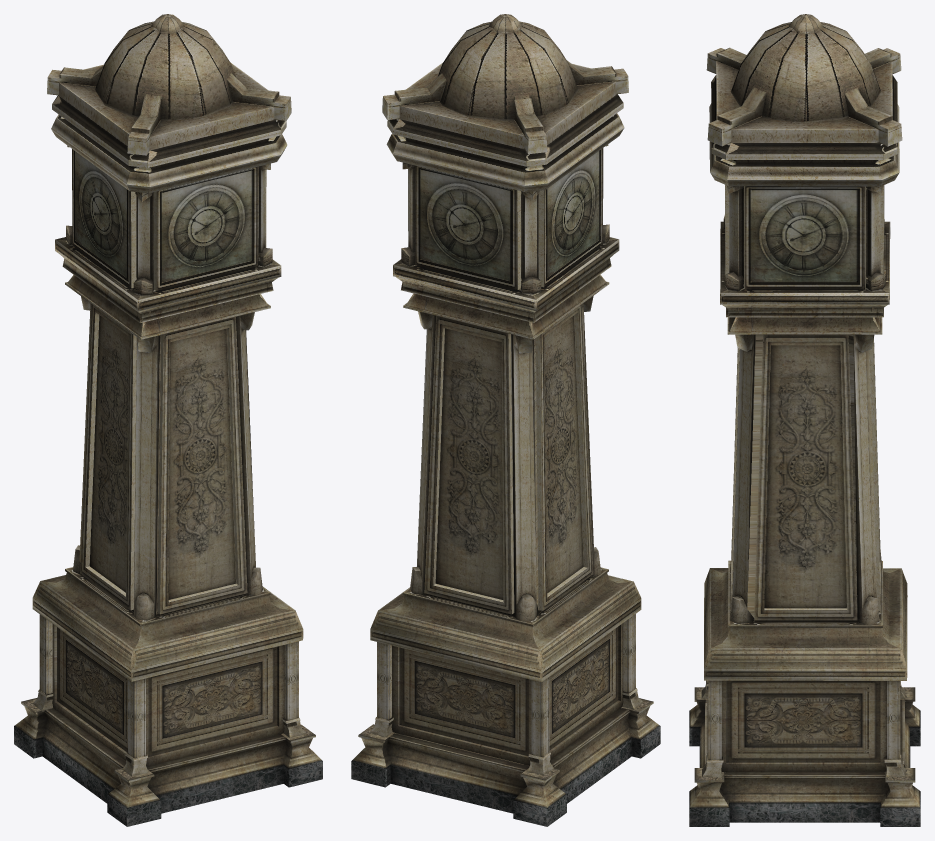
Rendered from Prop_Monument_01.FBX.
3 views of the same model, side by side, from view 1: azimuth 30°, elevation 25°; view 2: azimuth 150°, elevation 25°; view 3: azimuth 270°, elevation 25° (orthographic). The views are drawn at different scales.
Parts seen in each view (by area): view 1: Prop_Monument_01; view 2: Prop_Monument_01; view 3: Prop_Monument_01.
Part boxes in pixels (bbox=[...]): Prop_Monument_01: bbox=[14, 14, 322, 826]; Prop_Monument_01: bbox=[351, 14, 660, 826]; Prop_Monument_01: bbox=[689, 14, 920, 826].
Size of the model in its own units: 1.01 by 3.7 by 1.01.
